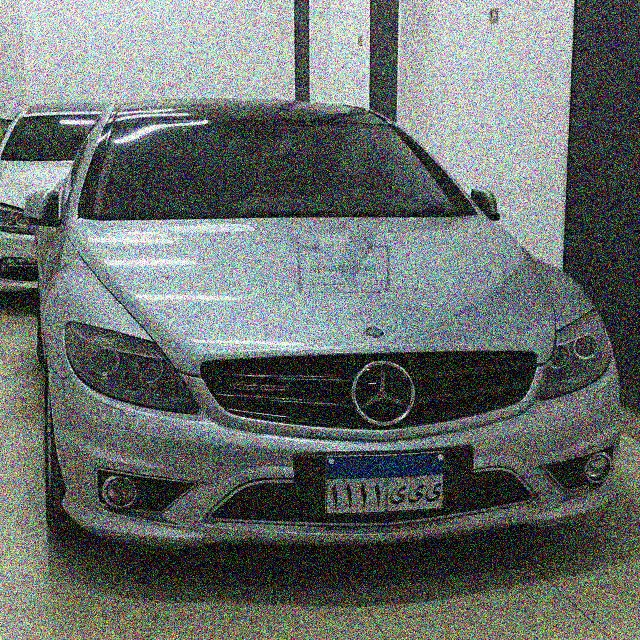License Plate: (323, 449, 447, 517)
